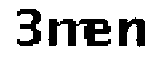3: (13, 4, 44, 51)
e: (79, 13, 117, 52)
n: (44, 13, 78, 51), (117, 16, 153, 50)
